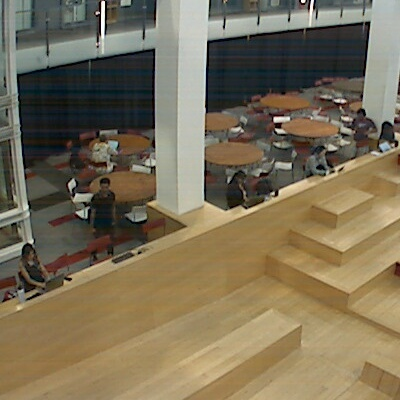head: (16, 241, 41, 265), (230, 168, 249, 188), (96, 176, 114, 197), (355, 106, 370, 124), (313, 144, 329, 159), (95, 131, 112, 145)
